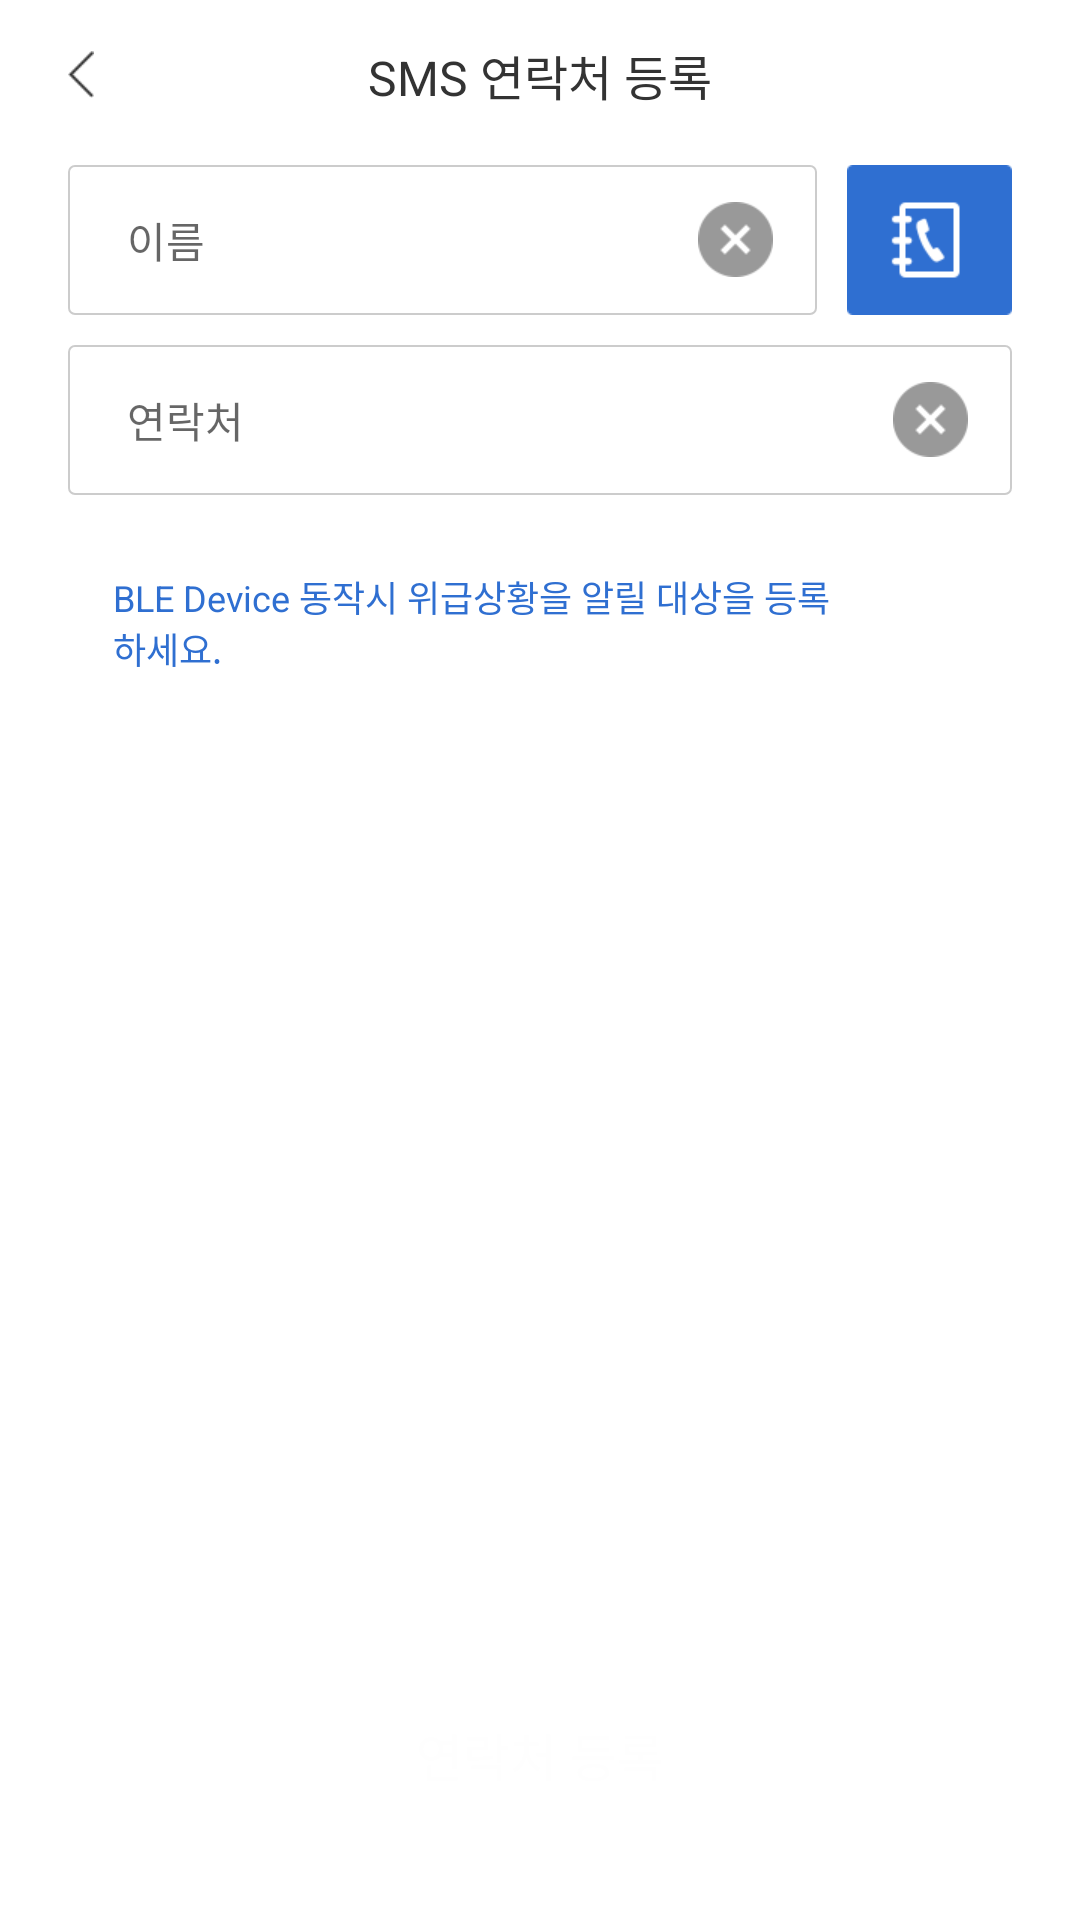

Named icons in this screenshot (1080w x 1920h) and their bounding boxes, [x1,y1,x2,y2]:
arrow left: [68,51,94,98]
sos address: [847,165,1012,315]
